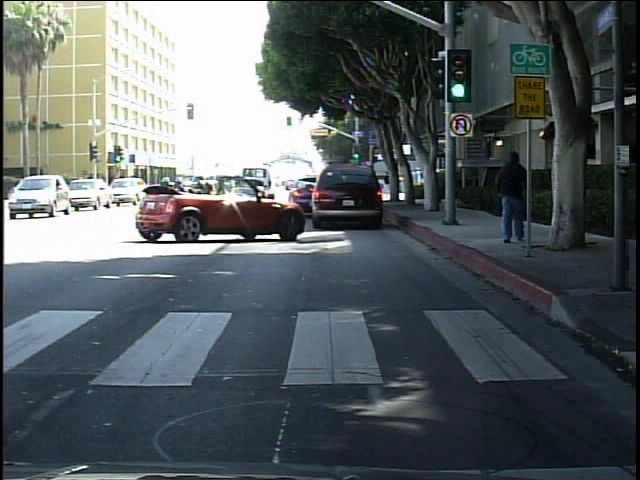person: (495, 139, 531, 242), (496, 148, 521, 228)
